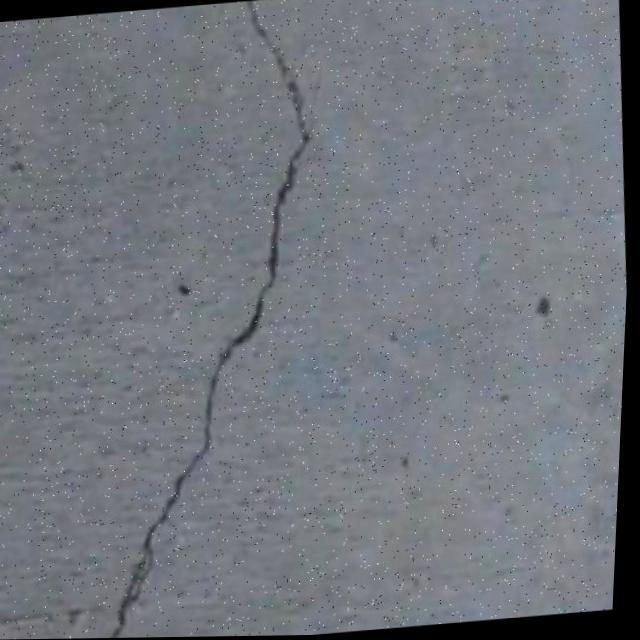Crack: (57, 0, 365, 639)
